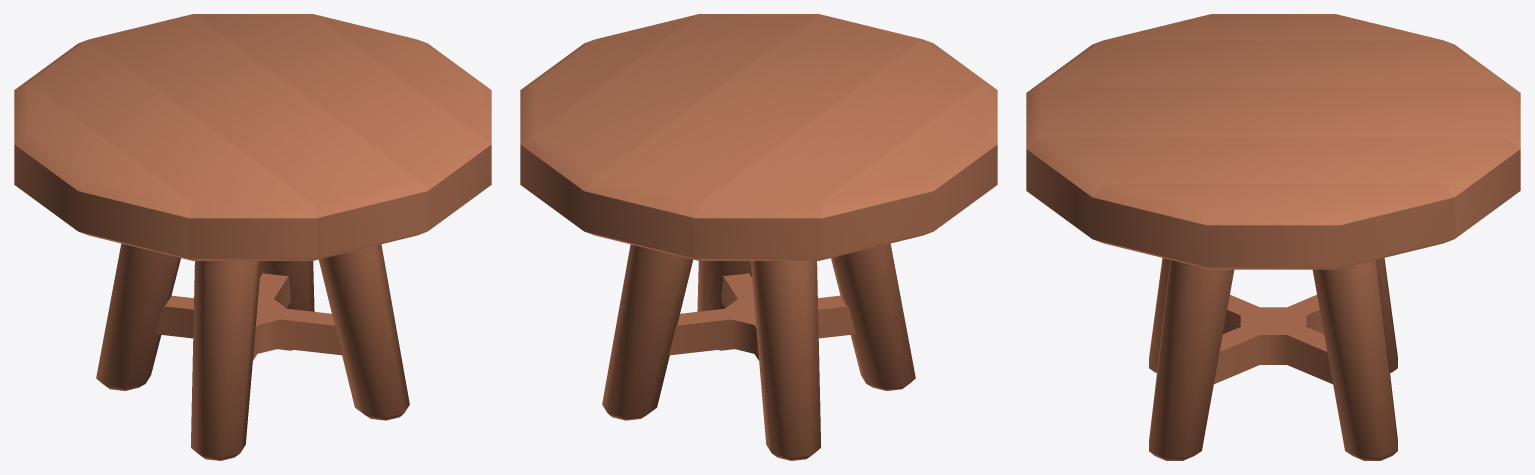
Rendered from table-round-a.glb.
The picture shows the model from 3 angles, left to right: view 1: azimuth 30°, elevation 25°; view 2: azimuth 150°, elevation 25°; view 3: azimuth 270°, elevation 25°; orthographic projection. The views are drawn at different scales.
Visible parts, largest first — view 1: table_round_A; view 2: table_round_A; view 3: table_round_A.
Part boxes in pixels (bbox=[...]): table_round_A: bbox=[14, 14, 491, 460]; table_round_A: bbox=[520, 14, 997, 460]; table_round_A: bbox=[1026, 14, 1520, 460].
Bounding box in the file's own units: 1.5 × 1 × 1.5.
Materials: 1 (1 with a texture image).
